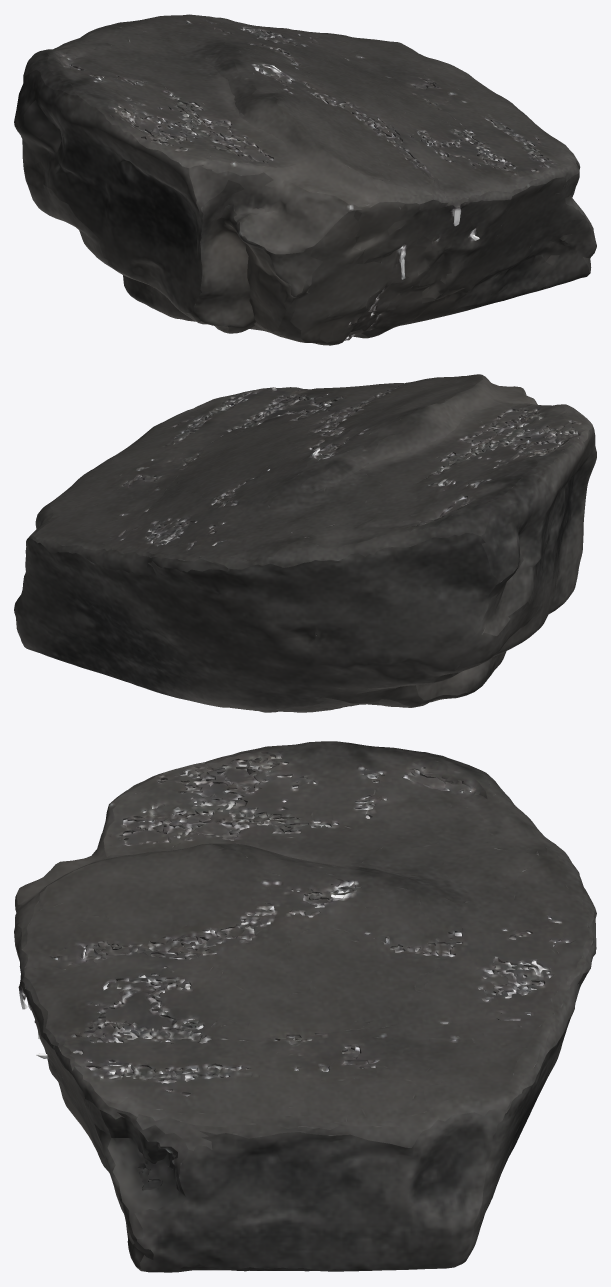
The picture shows the model from 3 angles, top to bottom: view 1: azimuth 30°, elevation 25°; view 2: azimuth 150°, elevation 25°; view 3: azimuth 270°, elevation 25°; orthographic projection. The views are drawn at different scales.
Visible parts, largest first — view 1: world; view 2: world; view 3: world.
Boxes of the visible parts, x1,y1,x2,y2 form: world: [14, 14, 596, 345]; world: [14, 374, 596, 712]; world: [14, 741, 596, 1272].
Size of the model in its own units: 0.32 by 0.1568 by 0.294.
Materials: 1 (1 with a texture image).
